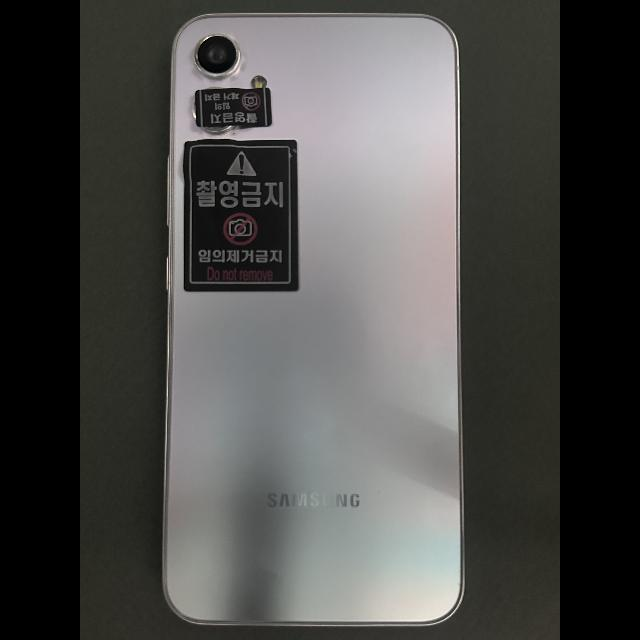lens: (196, 33, 239, 77), (196, 125, 235, 134)
phone: (162, 14, 464, 626)
sticker: (183, 139, 299, 291), (195, 87, 272, 127)
